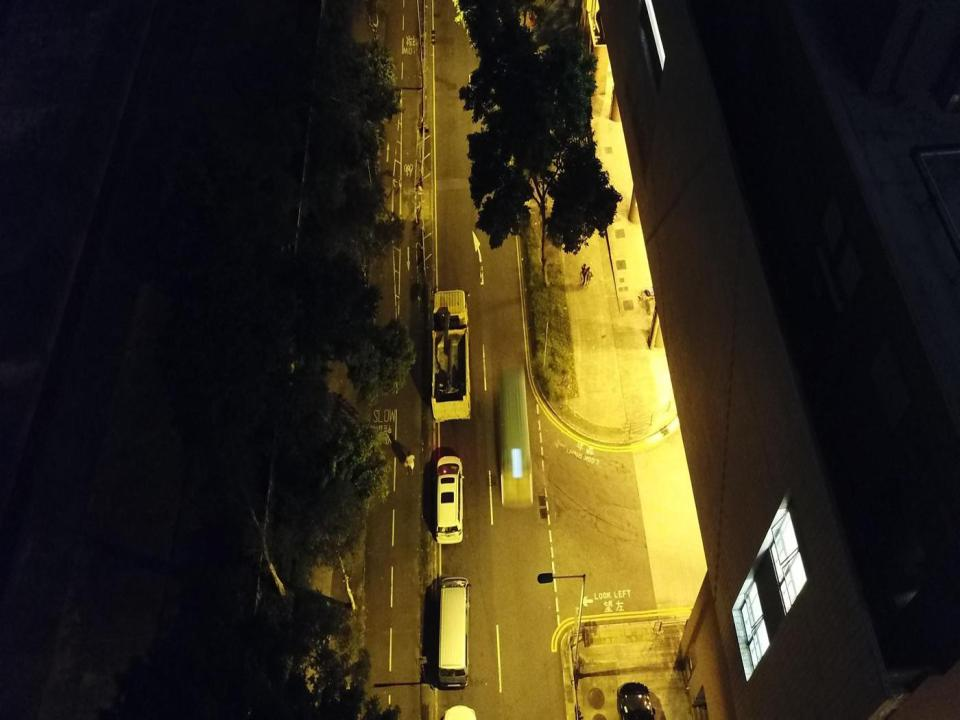bus: (498, 365, 534, 508), (436, 577, 471, 687)
car: (435, 455, 465, 545)
truck: (430, 290, 471, 420)
